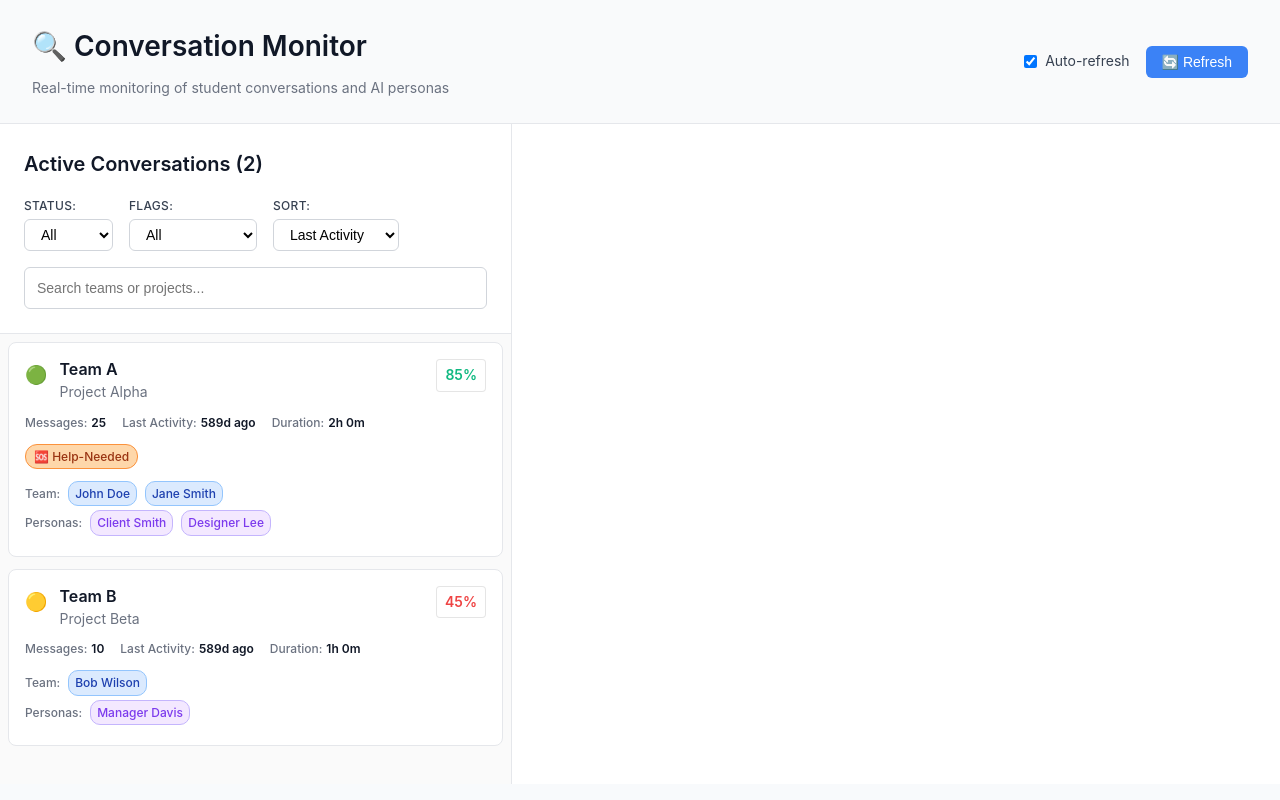
Test case: ConversationMonitor › Messages View › should display conversation messages
Expected: the heading "Team A" is shown, [60,359,118,379]
Step 1. Click the text "Team A" → (256, 450), box [8,342,503,557]
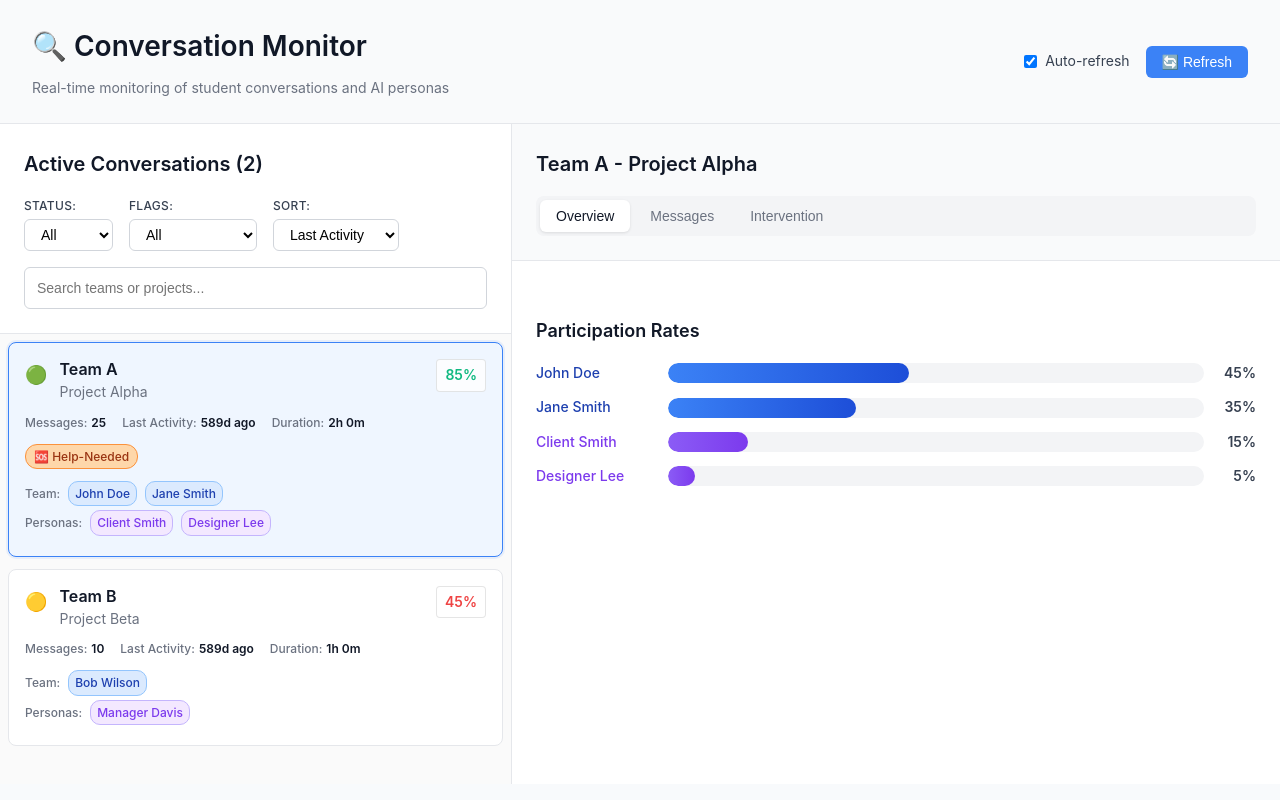
Now the button "Messages" is shown
Step 2. Click the button "Messages" → (682, 216), box [634,200,730,232]
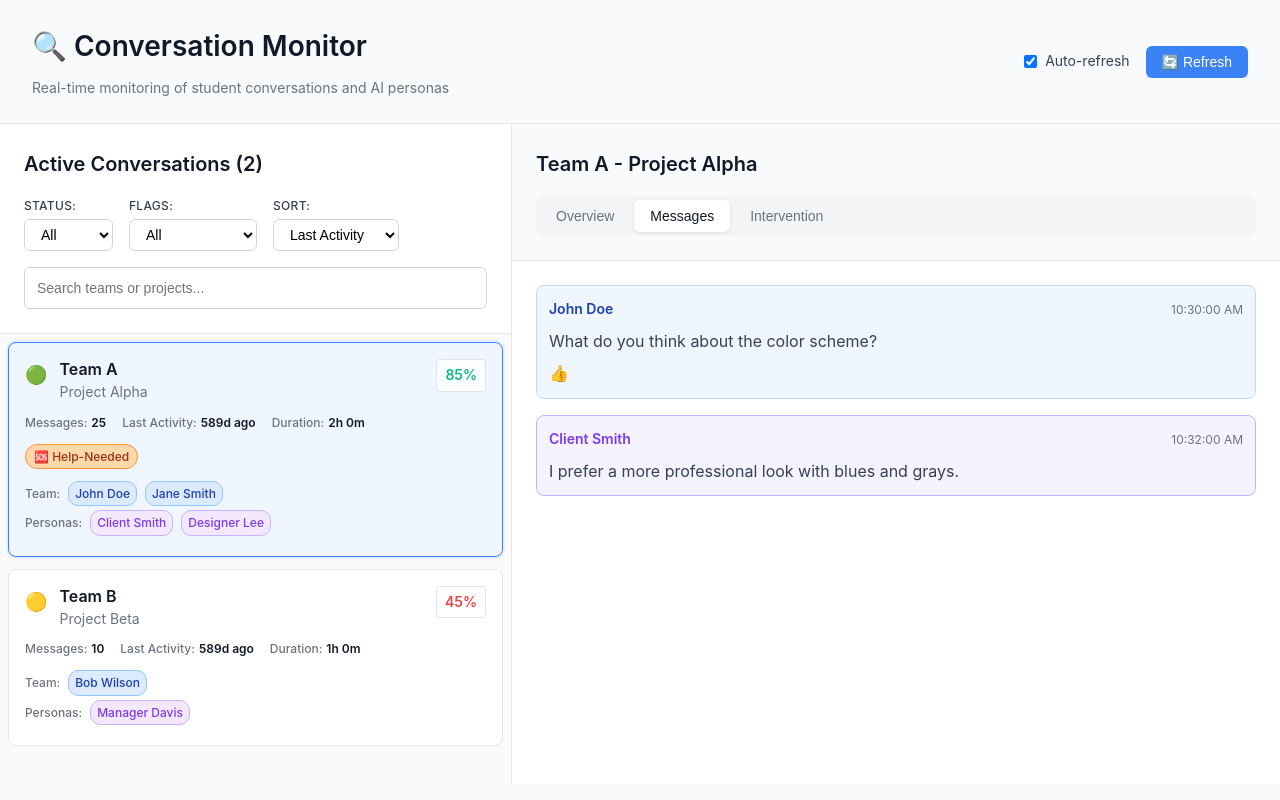
Now the text "What do you think about the color scheme?" is shown, box [549,331,877,351]
Now the text "I prefer a more professional look with blues and grays." is shown, box [549,461,959,481]
